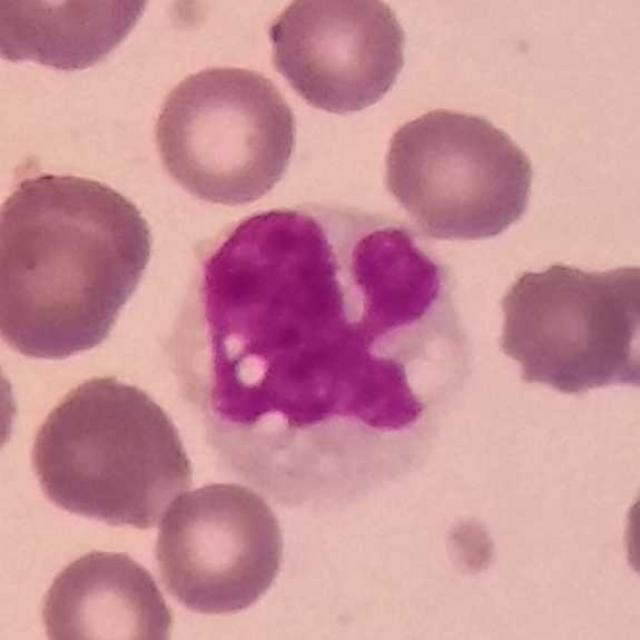Monocyte: (174, 205, 471, 511)
Platelets: (441, 513, 503, 581)
RBC: (0, 161, 160, 358), (22, 369, 198, 531), (377, 101, 541, 245), (147, 58, 303, 209), (488, 255, 638, 397), (149, 476, 291, 619), (262, 0, 413, 118), (35, 543, 179, 640), (3, 0, 157, 77), (581, 256, 640, 401), (615, 440, 640, 611), (0, 328, 23, 480)
